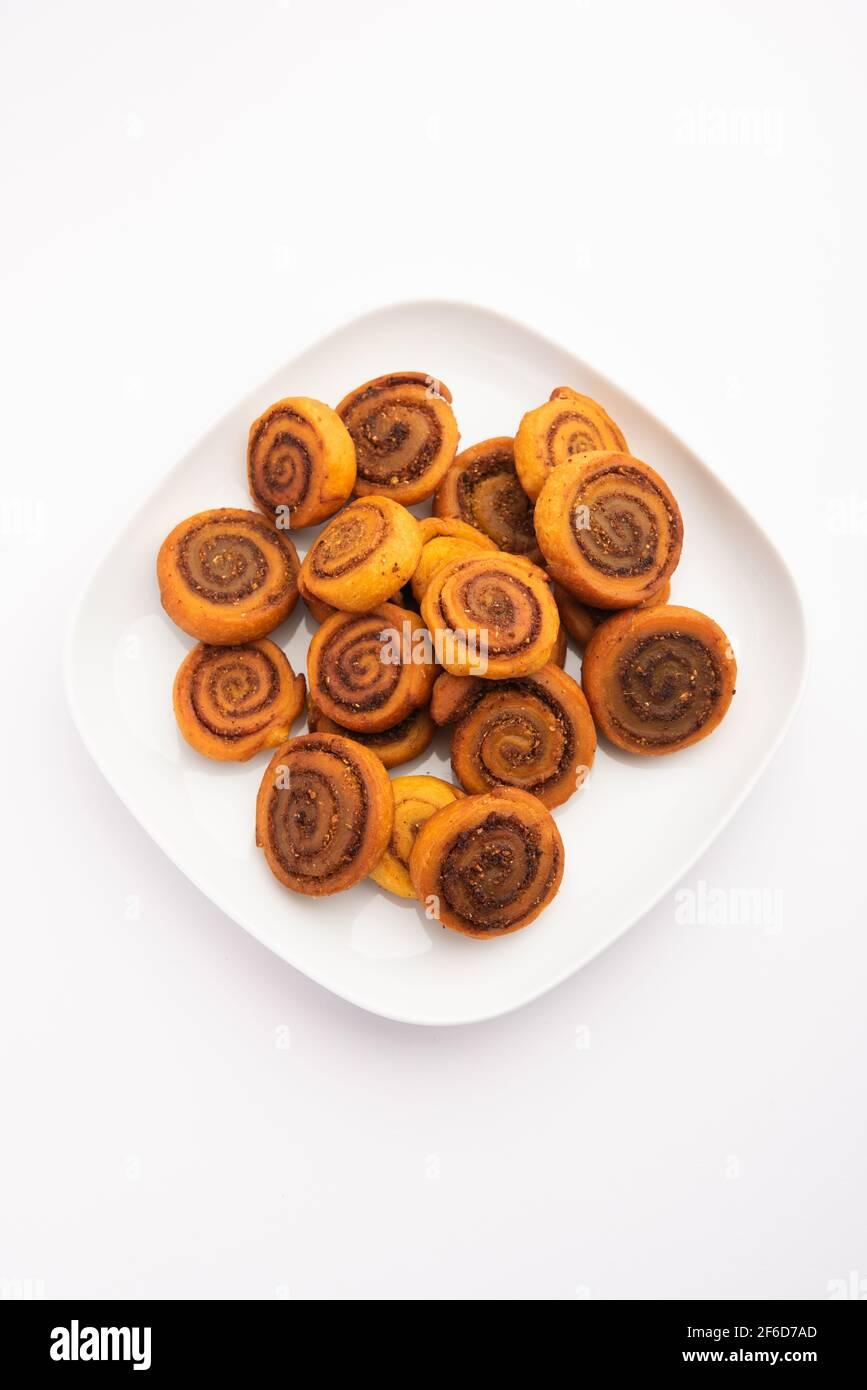bhakarwadi: (155, 373, 754, 933)
